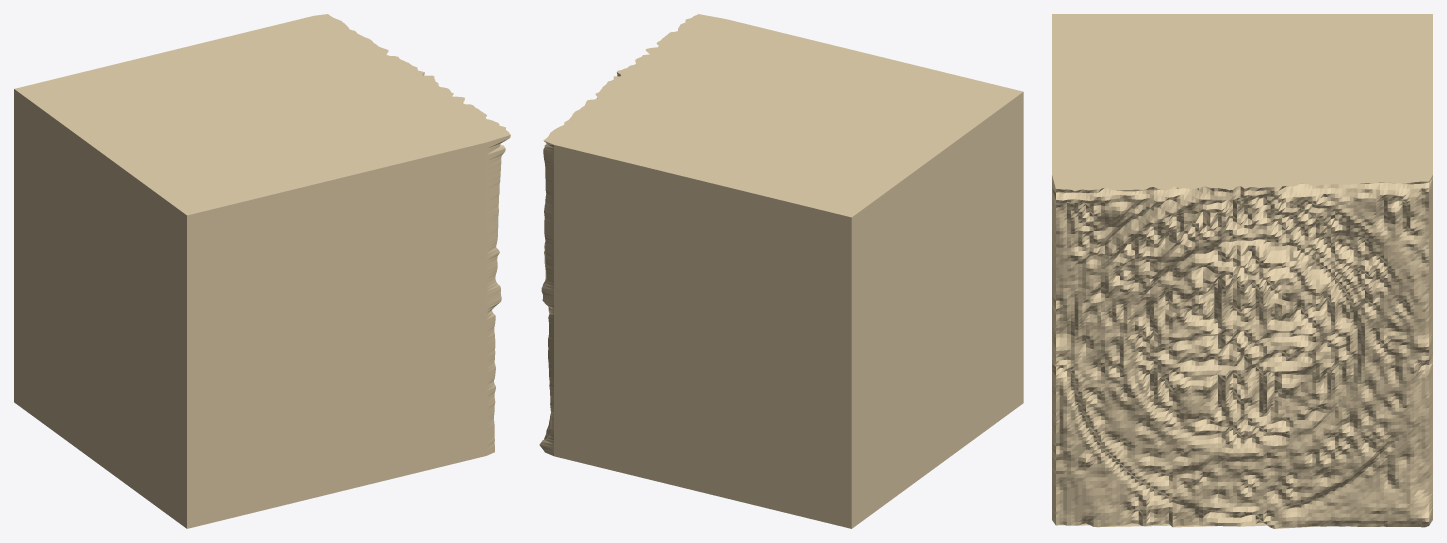
The model's file is bottom3.png - copia.obj.
3 views of the same model, side by side, from view 1: azimuth 30°, elevation 25°; view 2: azimuth 150°, elevation 25°; view 3: azimuth 270°, elevation 25° (orthographic). The views are drawn at different scales.
Parts seen in each view (by area): view 1: Cube; view 2: Cube; view 3: Cube.
Part boxes in pixels (x1,y1,x2,y2): Cube: (14, 14, 510, 528); Cube: (539, 14, 1023, 528); Cube: (1052, 14, 1432, 528).
Size of the model in its own units: 1.1 by 1 by 1.
